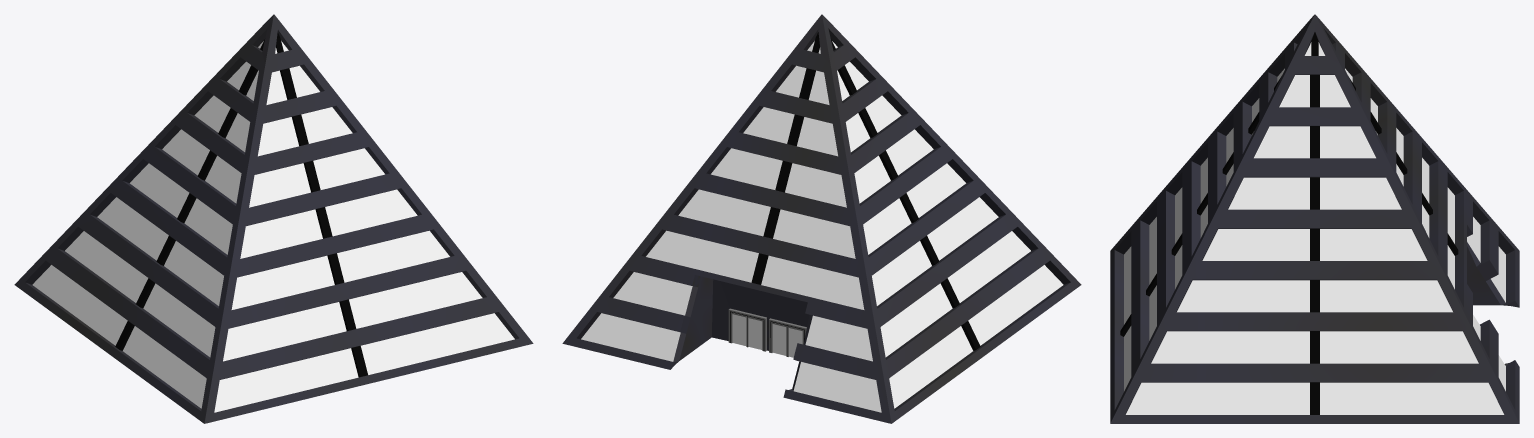
The model's file is Pyramide.fbx.
3 renders of one model, left to right at view 1: azimuth 30°, elevation 25°; view 2: azimuth 150°, elevation 25°; view 3: azimuth 270°, elevation 25°, orthographic. The views are drawn at different scales.
Parts seen in each view (by area): view 1: Cube.010; view 2: Cube.010; view 3: Cube.010.
Part boxes in pixels (x1,y1,x2,y2): Cube.010: (14, 14, 533, 423); Cube.010: (562, 14, 1081, 423); Cube.010: (1110, 14, 1519, 423).
Size of the model in its own units: 13444 by 11716 by 13444.
